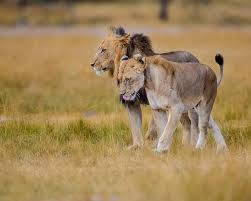lion: (87, 23, 228, 156), (115, 50, 235, 157)
